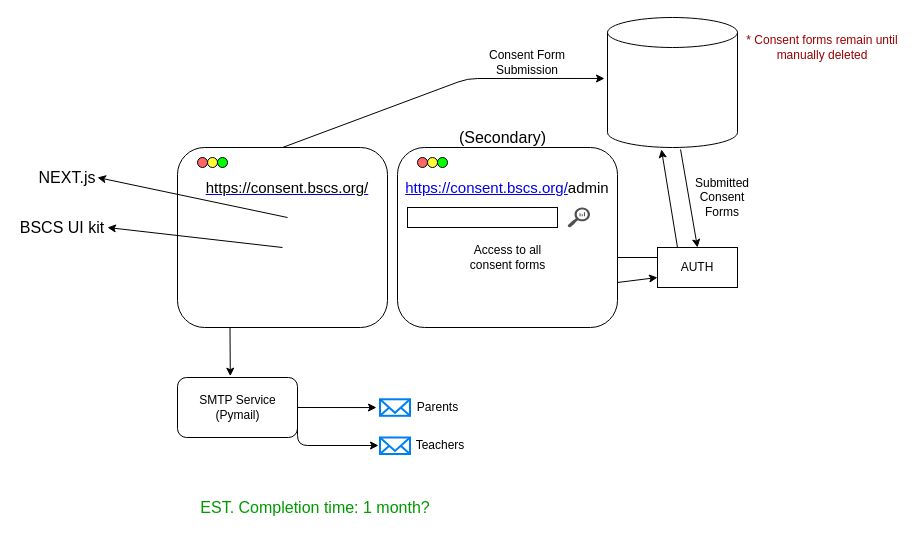
Image size: 924x545. Some labels were removed from this diagram. The shapes that lost their labels are listed below. From the top down, each one's box as (x1, y1, x2, y2) in pixels, then its label:
(606, 16, 738, 148): Fauna DB
(406, 206, 558, 228): Search and Sort Capability
